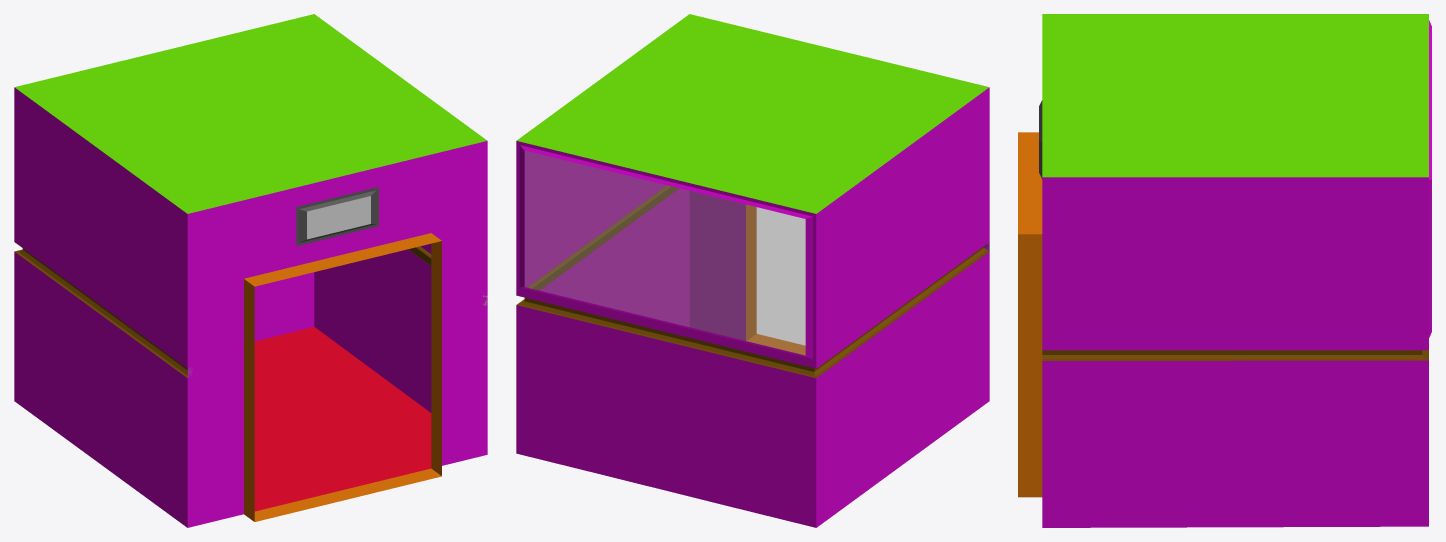
File: Lift_v2.0.fbx
The picture shows the model from 3 angles, left to right: view 1: azimuth 30°, elevation 25°; view 2: azimuth 150°, elevation 25°; view 3: azimuth 270°, elevation 25°; orthographic projection. The views are drawn at different scales.
Parts seen in each view (by area): view 1: polySurface2826; view 2: polySurface2826; view 3: polySurface2826.
Part boxes in pixels (x1,y1,x2,y2): polySurface2826: (14, 14, 487, 527); polySurface2826: (516, 14, 989, 527); polySurface2826: (1018, 14, 1431, 527).
Bounding box in the file's own units: 400 × 400 × 428.
